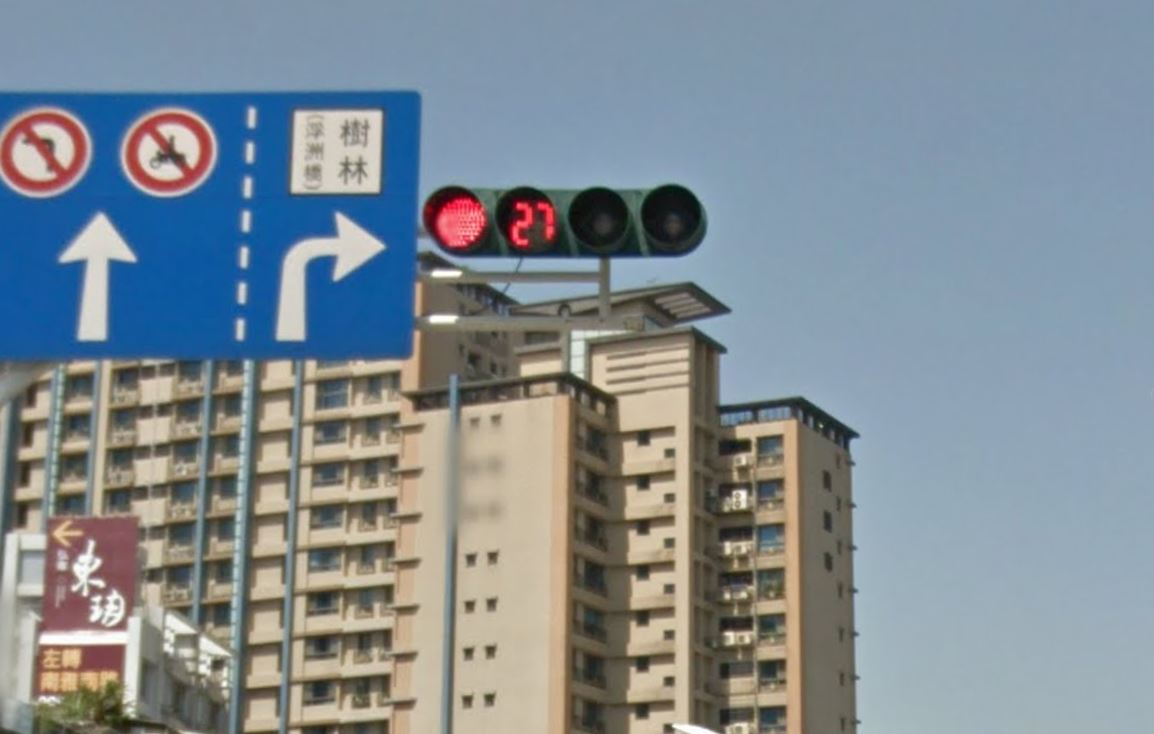Traffic_light_red: (424, 182, 711, 264)
